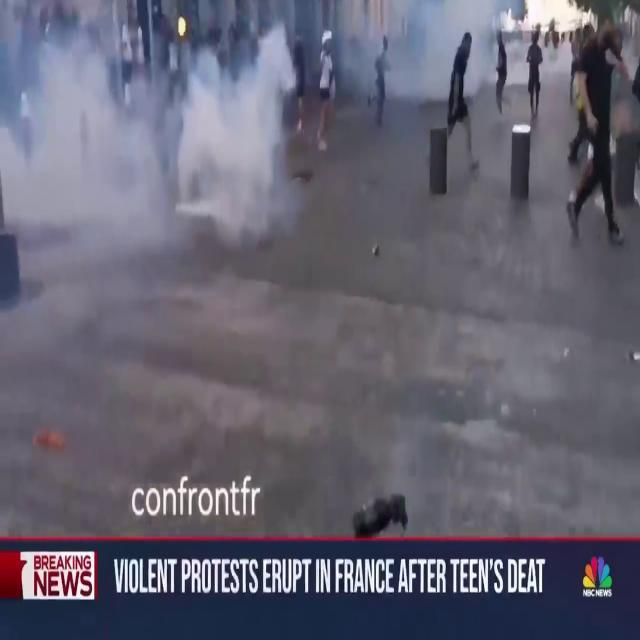Smoke: (0, 3, 300, 264)
